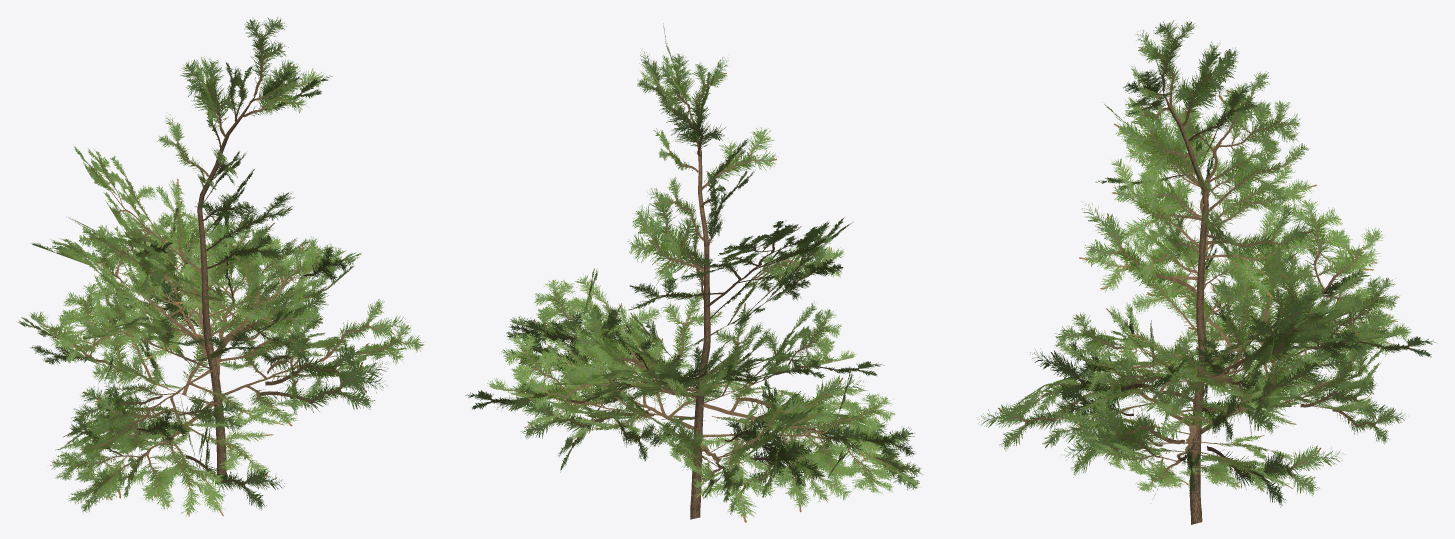
The picture shows the model from 3 angles, left to right: view 1: azimuth 30°, elevation 25°; view 2: azimuth 150°, elevation 25°; view 3: azimuth 270°, elevation 25°; orthographic projection. The views are drawn at different scales.
Parts seen in each view (by area): view 1: Pine_sapling_2_LOD1_Bark_Mat_0; view 2: Pine_sapling_2_LOD1_Bark_Mat_0; view 3: Pine_sapling_2_LOD1_Bark_Mat_0.
Part boxes in pixels (x1,y1,x2,y2): Pine_sapling_2_LOD1_Bark_Mat_0: (18, 17, 423, 516); Pine_sapling_2_LOD1_Bark_Mat_0: (465, 23, 923, 522); Pine_sapling_2_LOD1_Bark_Mat_0: (977, 20, 1435, 524).
Size of the model in its own units: 1.37 by 1.55 by 1.27.
